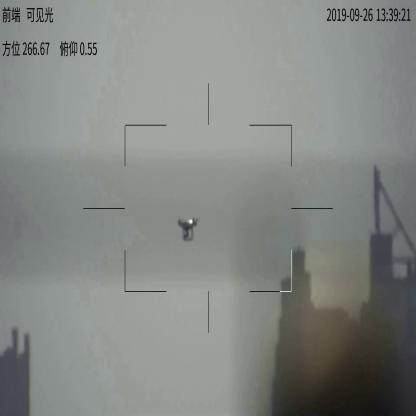uav: (175, 216, 200, 242)
